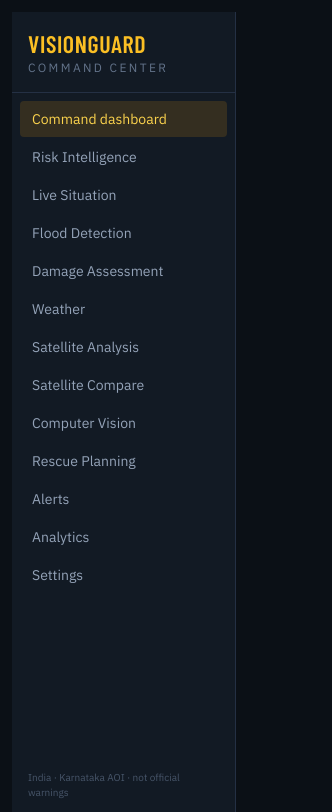
Test: in-app weather navigation › swaps the main pane to Weather when the sidebar link is clicked
Step 1. Click the link "Weather" → [59, 309], box x1=32 y1=300 x2=85 y2=318
(page scrolled)
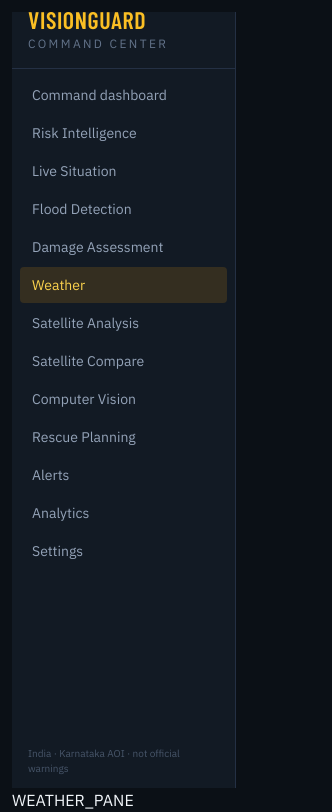
Expected: the text "WEATHER_PANE" is shown, x1=12 y1=790 x2=134 y2=810
